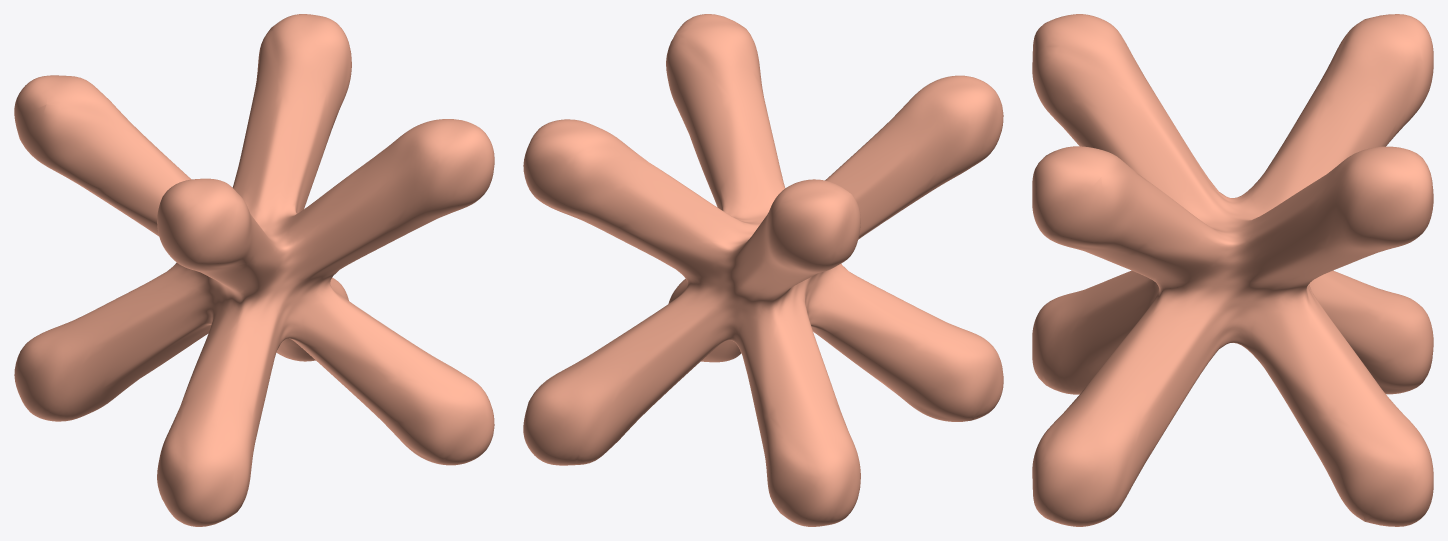
The model's file is explainer-poc-star.glb.
The picture shows the model from 3 angles, left to right: view 1: azimuth 30°, elevation 25°; view 2: azimuth 150°, elevation 25°; view 3: azimuth 270°, elevation 25°; orthographic projection. The views are drawn at different scales.
Visible parts, largest first — view 1: Exploded Mesh; view 2: Exploded Mesh; view 3: Exploded Mesh.
Boxes of the visible parts, box(x1,y1,x2,y2) form: Exploded Mesh: box(14, 14, 494, 526); Exploded Mesh: box(523, 14, 1003, 526); Exploded Mesh: box(1032, 14, 1433, 526).
Bounding box in the file's own units: 0.0147 × 0.0147 × 0.0147.
